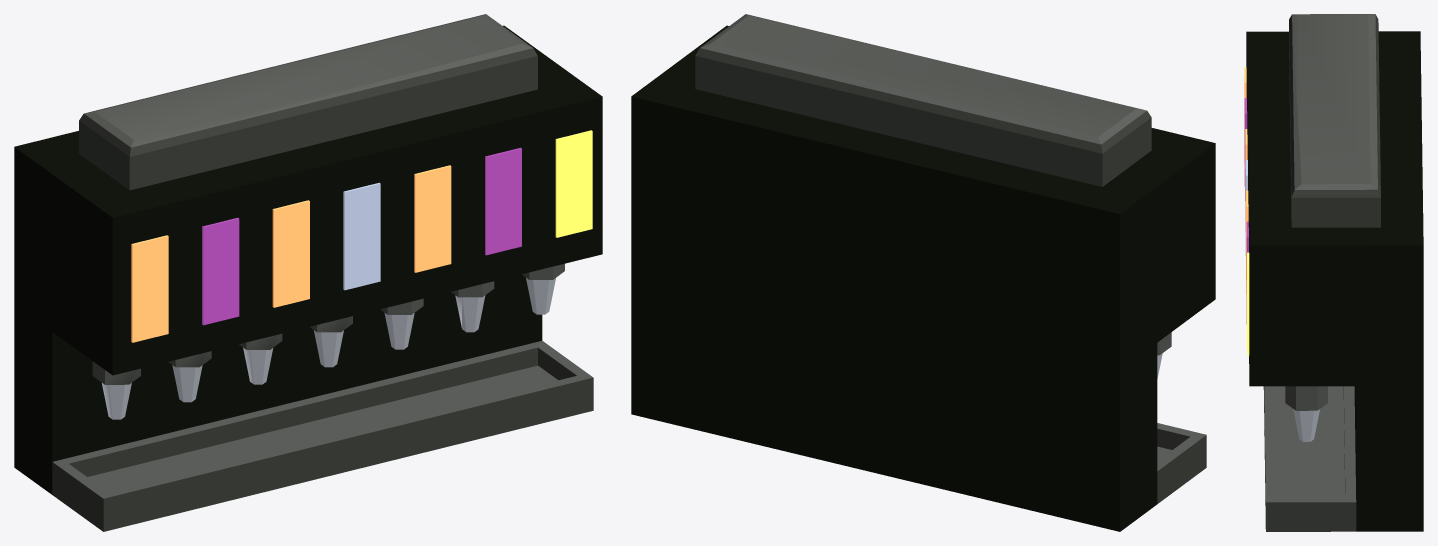
The model's file is Drinks_Dispenser_Black.glb.
The picture shows the model from 3 angles, left to right: view 1: azimuth 30°, elevation 25°; view 2: azimuth 150°, elevation 25°; view 3: azimuth 270°, elevation 25°; orthographic projection. The views are drawn at different scales.
Parts seen in each view (by area): view 1: Drink_Dispenser_Black; view 2: Drink_Dispenser_Black; view 3: Drink_Dispenser_Black.
Part boxes in pixels (x1=…): Drink_Dispenser_Black: x1=14, y1=14, x2=602, y2=531; Drink_Dispenser_Black: x1=631, y1=14, x2=1215, y2=531; Drink_Dispenser_Black: x1=1244, y1=14, x2=1423, y2=531.
Size of what is drawn, in the model's own units: 1.39 by 0.9798 by 0.4891.
Materials: 1 (1 with a texture image).
